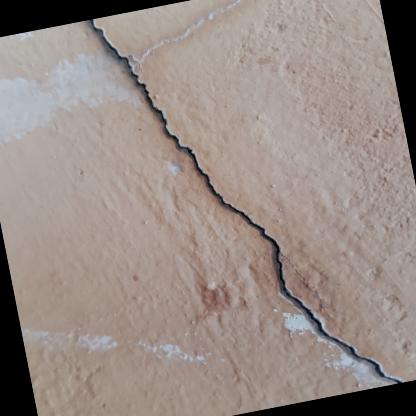crack: (87, 18, 403, 384)
